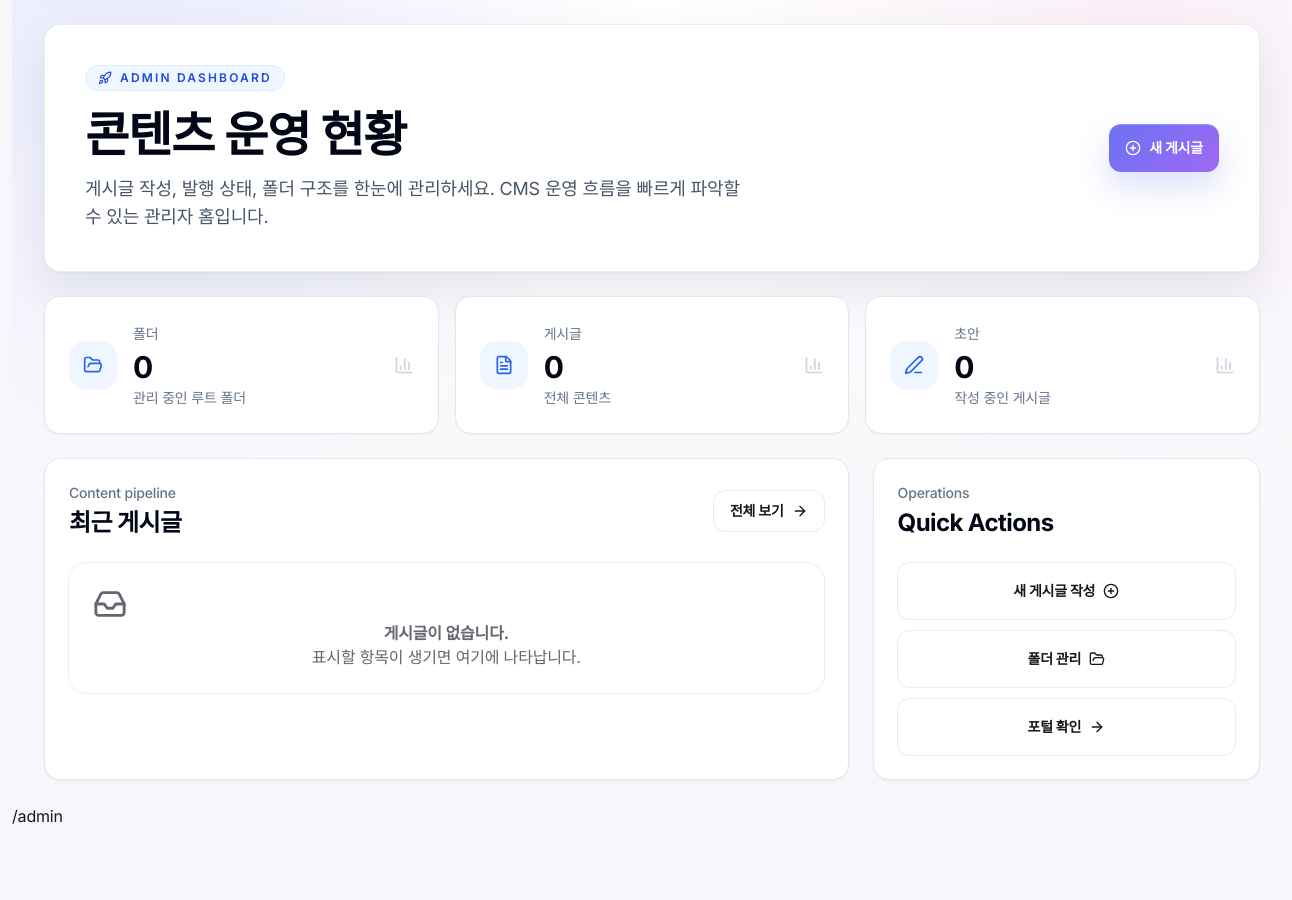
Test: AdminHomePage › 새 게시글 버튼 클릭 시 작성 페이지로 이동한다
The width and height of the screenshot is (1292, 900).
Click the button "새 게시글": (1164, 148) x1=1109 y1=124 x2=1219 y2=172
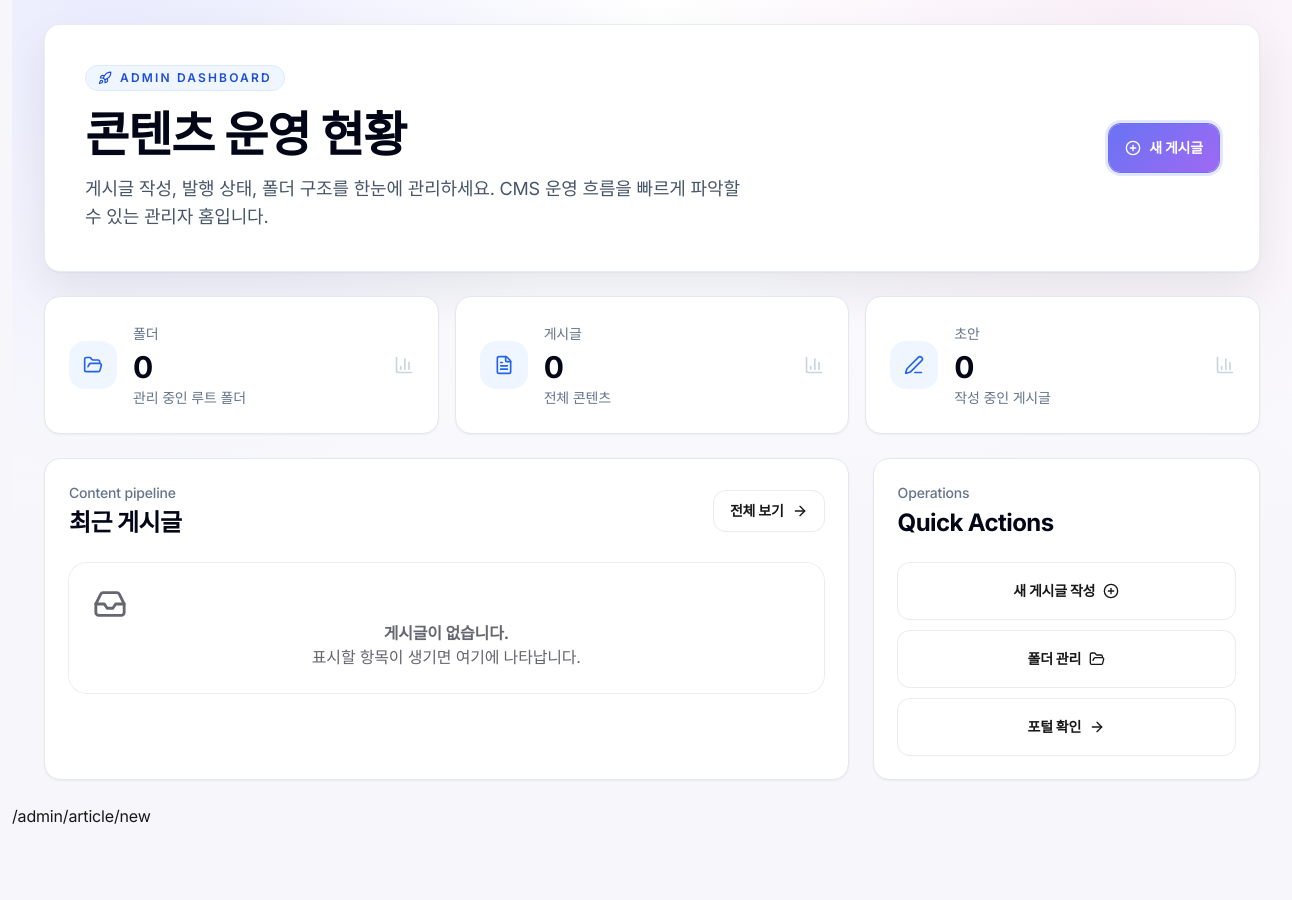
Expected: the text with test id "location" reads "/admin/article/new", x1=12 y1=806 x2=151 y2=826
